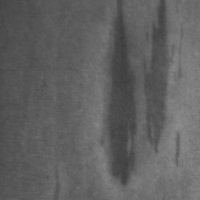inclusion: (96, 1, 141, 188), (140, 1, 174, 159), (50, 156, 66, 199), (171, 130, 185, 169)
